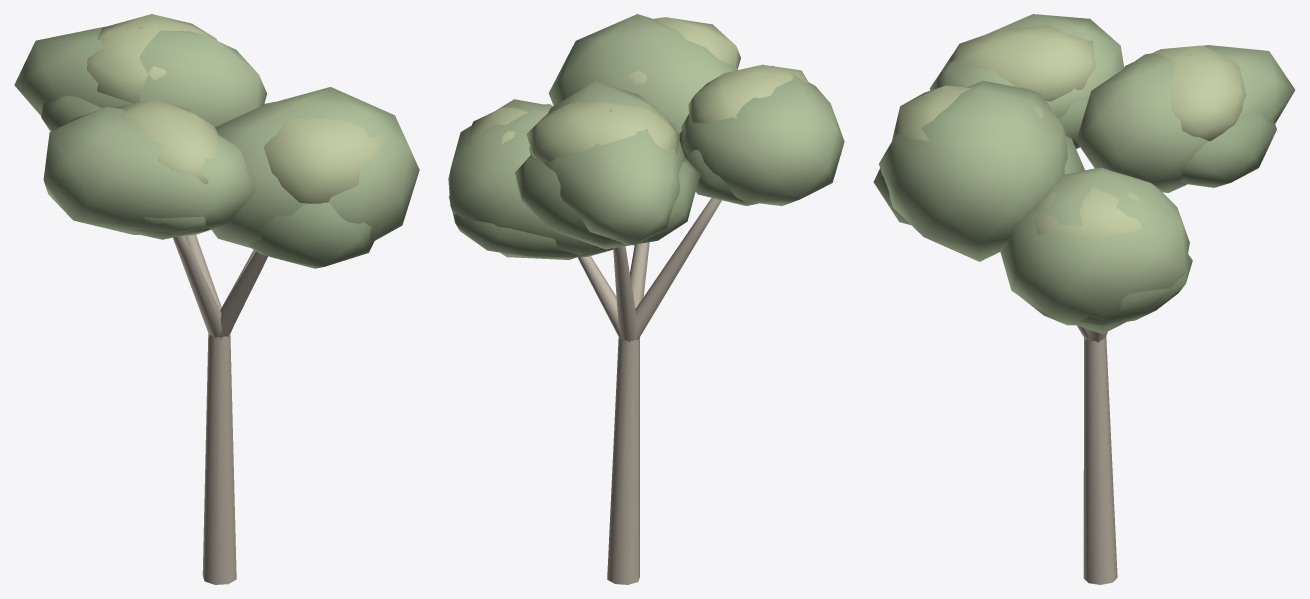
File: tree_eucalyptus_4.glb
The picture shows the model from 3 angles, left to right: view 1: azimuth 30°, elevation 25°; view 2: azimuth 150°, elevation 25°; view 3: azimuth 270°, elevation 25°; orthographic projection. The views are drawn at different scales.
Visible parts, largest first — view 1: tree_eucalyptus_4.glb; view 2: tree_eucalyptus_4.glb; view 3: tree_eucalyptus_4.glb.
Part boxes in pixels (box(x1,y1,x2,y2)): tree_eucalyptus_4.glb: box(14, 14, 419, 584); tree_eucalyptus_4.glb: box(448, 14, 844, 584); tree_eucalyptus_4.glb: box(873, 14, 1295, 584).
Bounding box in the file's own units: 5.65 × 7.59 × 5.7.
